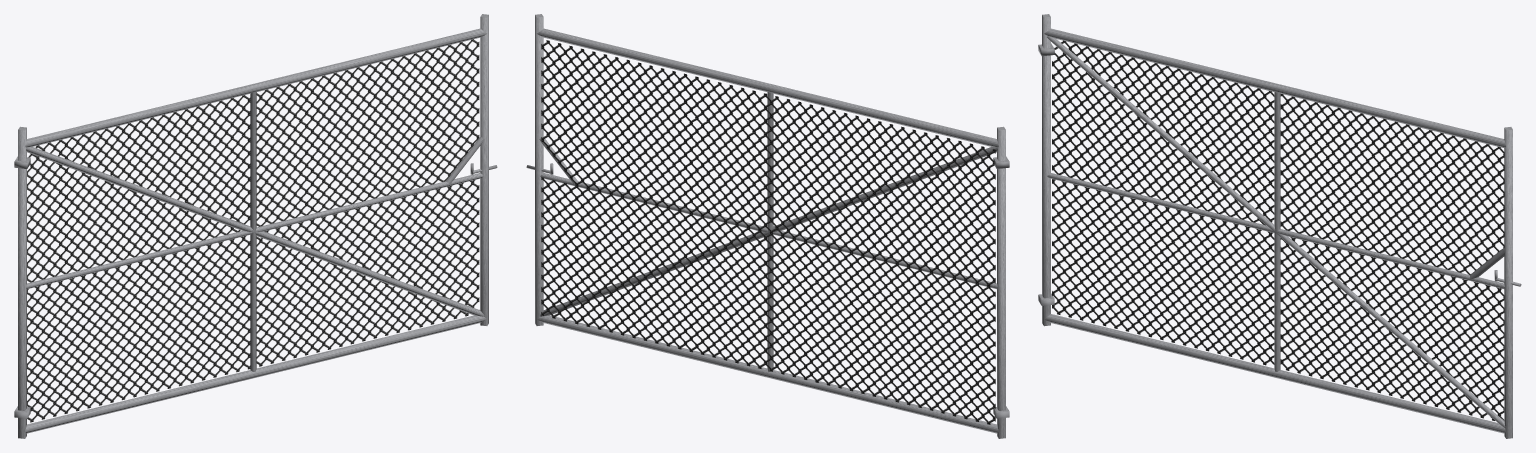
Rendered from fence-tall-gate-3m-RH-cbj_LOD02.gltf.
3 views of the same model, side by side, from view 1: azimuth 30°, elevation 25°; view 2: azimuth 150°, elevation 25°; view 3: azimuth 330°, elevation 25° (orthographic).
Visible parts, largest first — view 1: gate2; view 2: gate2; view 3: gate2.
Boxes of the visible parts, <box> form: gate2: <box>14,14,497,438</box>; gate2: <box>526,14,1009,438</box>; gate2: <box>1038,14,1521,438</box>.
Size of what is drawn, in the model's own units: 3.03 by 1.85 by 0.1016.
